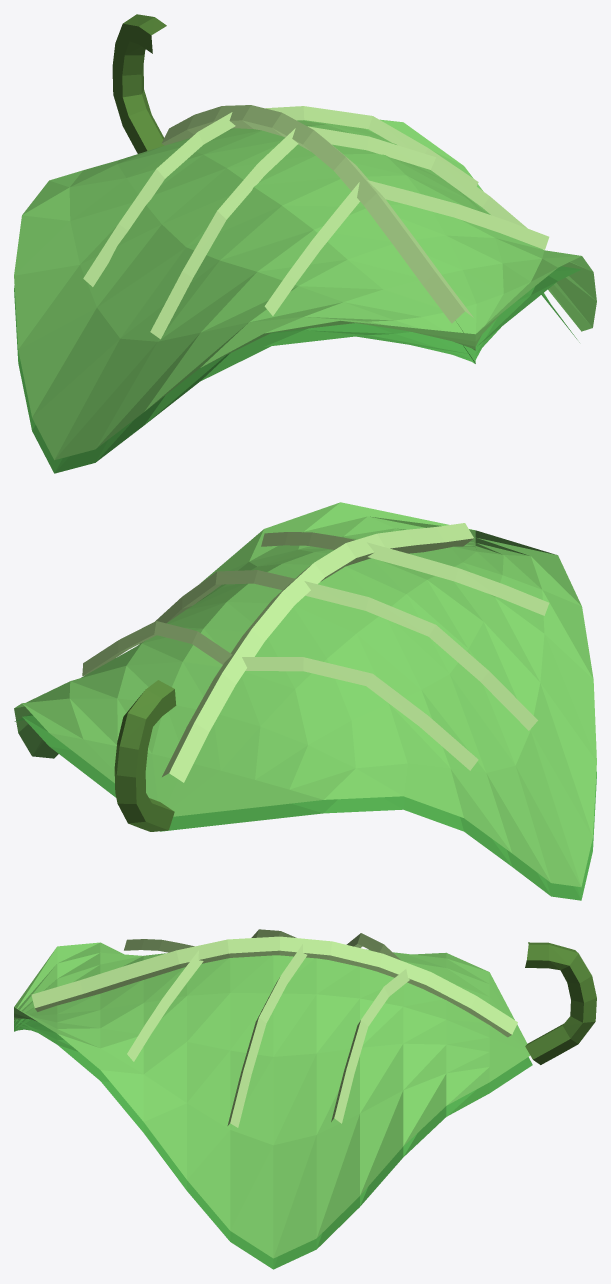
Rendered from leaf-hat.glb.
3 views of the same model, one above another, from view 1: azimuth 30°, elevation 25°; view 2: azimuth 150°, elevation 25°; view 3: azimuth 270°, elevation 25° (orthographic). The views are drawn at different scales.
Visible parts, largest first — view 1: leaf-hat; view 2: leaf-hat; view 3: leaf-hat.
Part boxes in pixels (x1,y1,x2,y2): leaf-hat: [14, 14, 596, 473]; leaf-hat: [14, 502, 596, 900]; leaf-hat: [14, 929, 596, 1269].
Size of the model in its own units: 0.164 by 0.0822 by 0.191.
